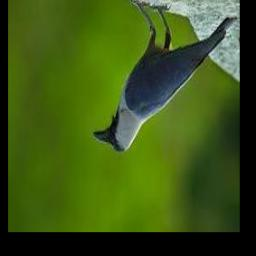Crow: (92, 3, 236, 151)
